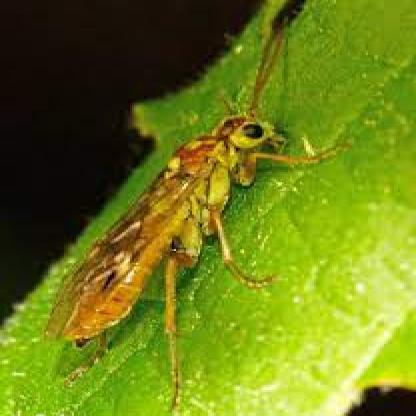sawfly: (45, 2, 336, 415)
